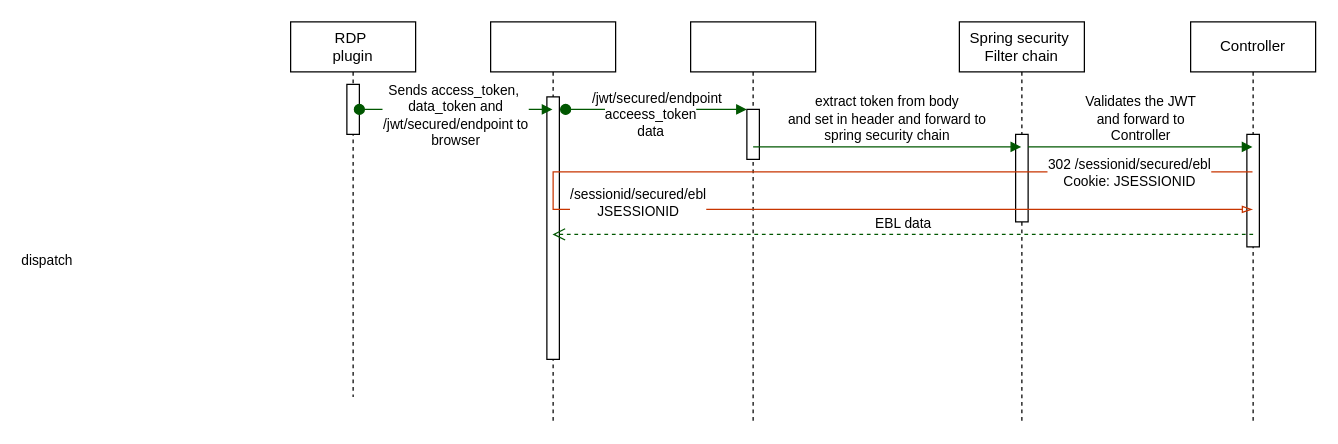
The diagram is 1338 pixels wide and 444 high, and some of its shapes have lost their labels. Each missing label, with the box of its shape:
Browser: (489, 21, 616, 422)
Filter: (689, 21, 816, 422)
